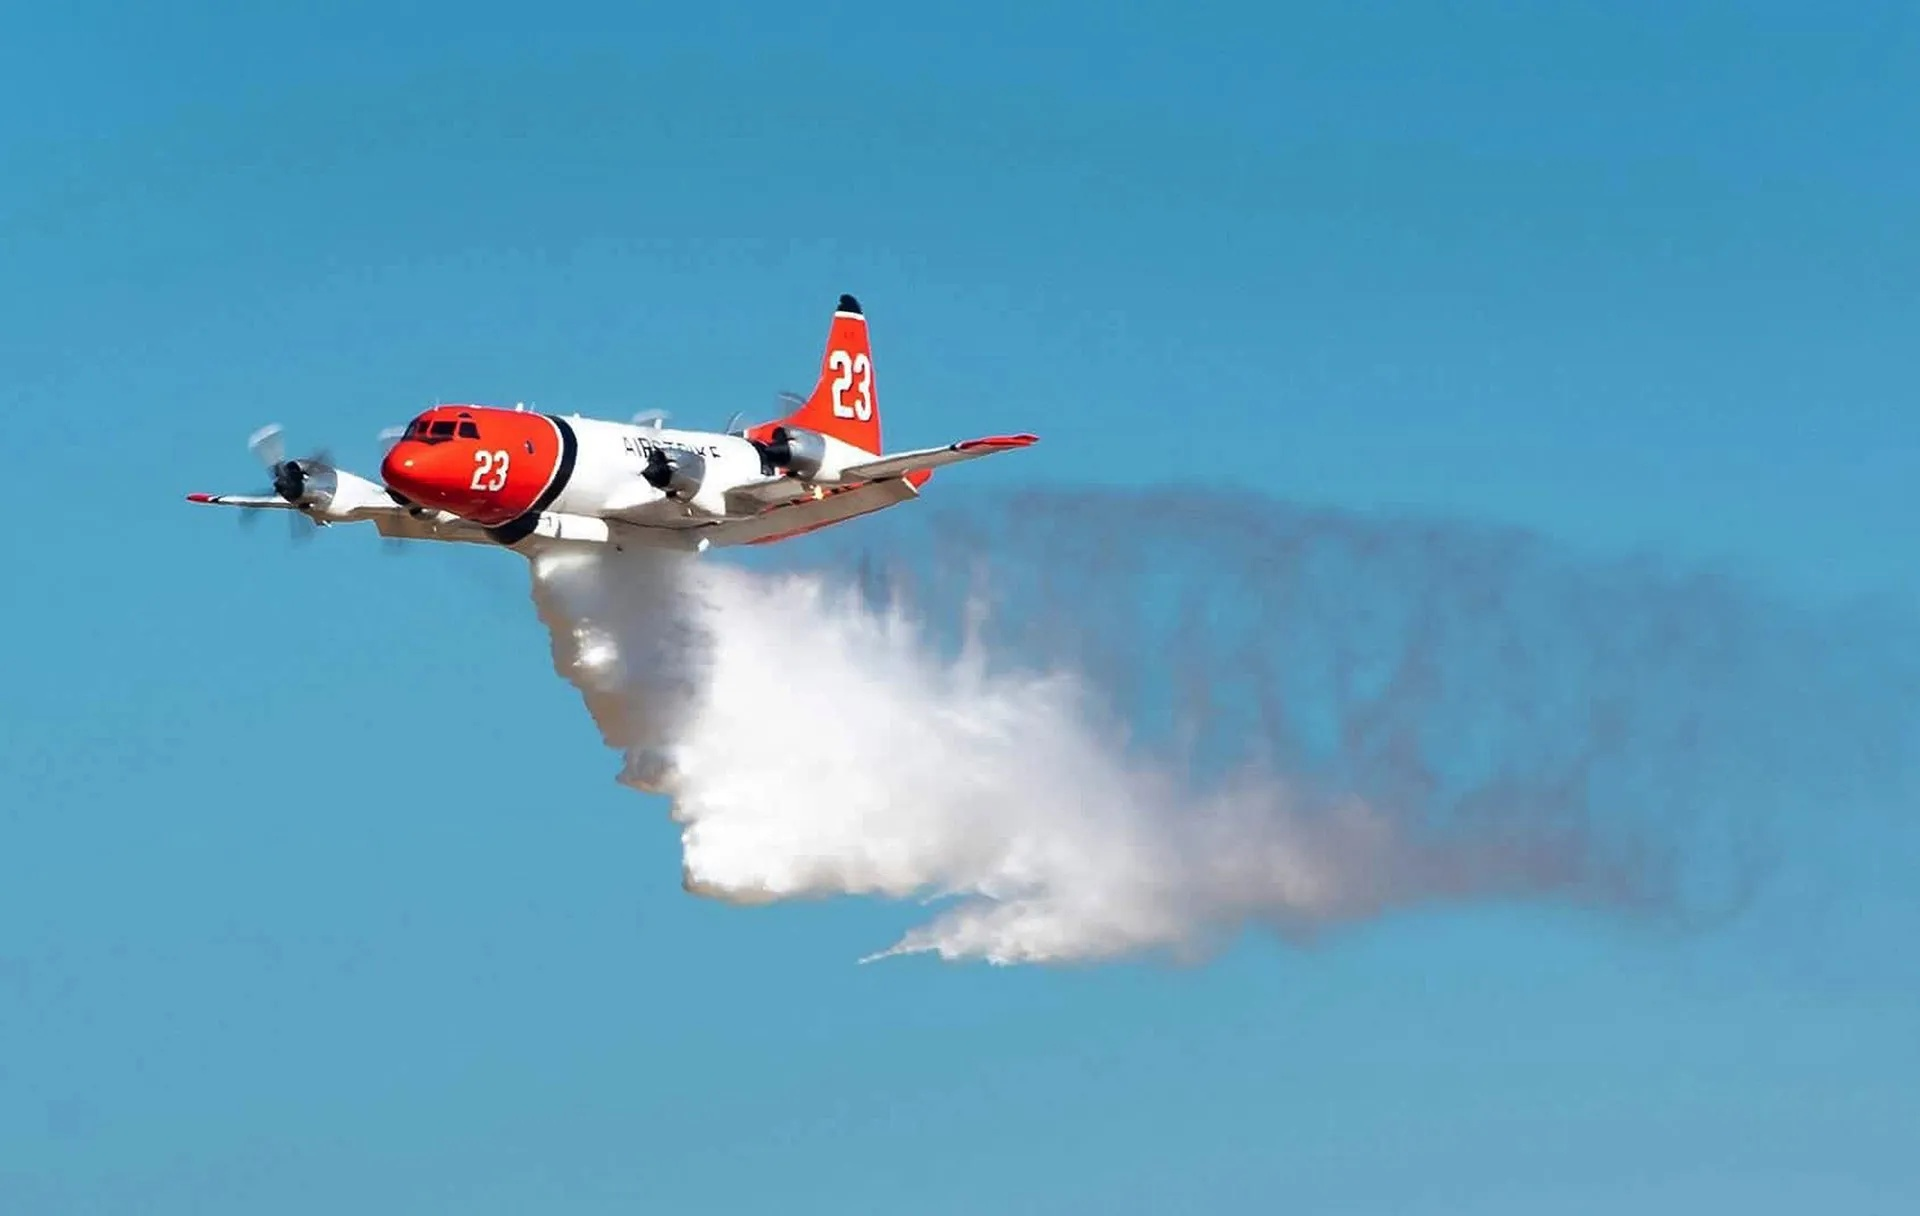airplane: (183, 292, 1041, 563)
